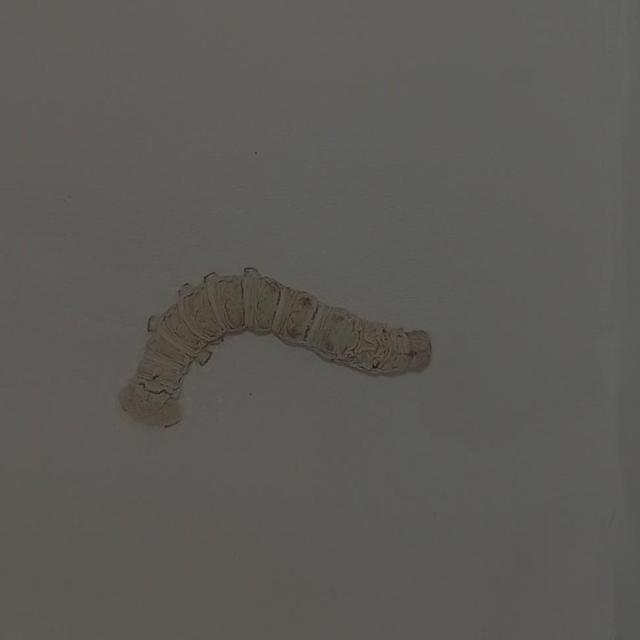Healthy: (110, 260, 443, 438)
